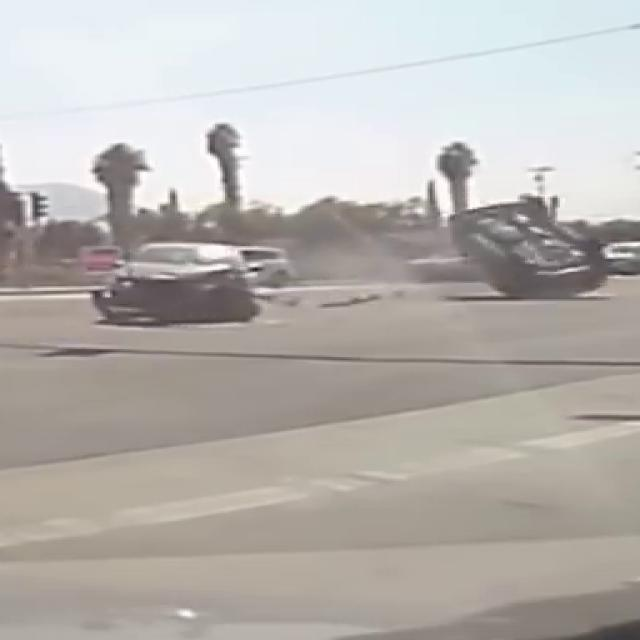accident: (443, 200, 629, 322), (76, 234, 269, 344)
